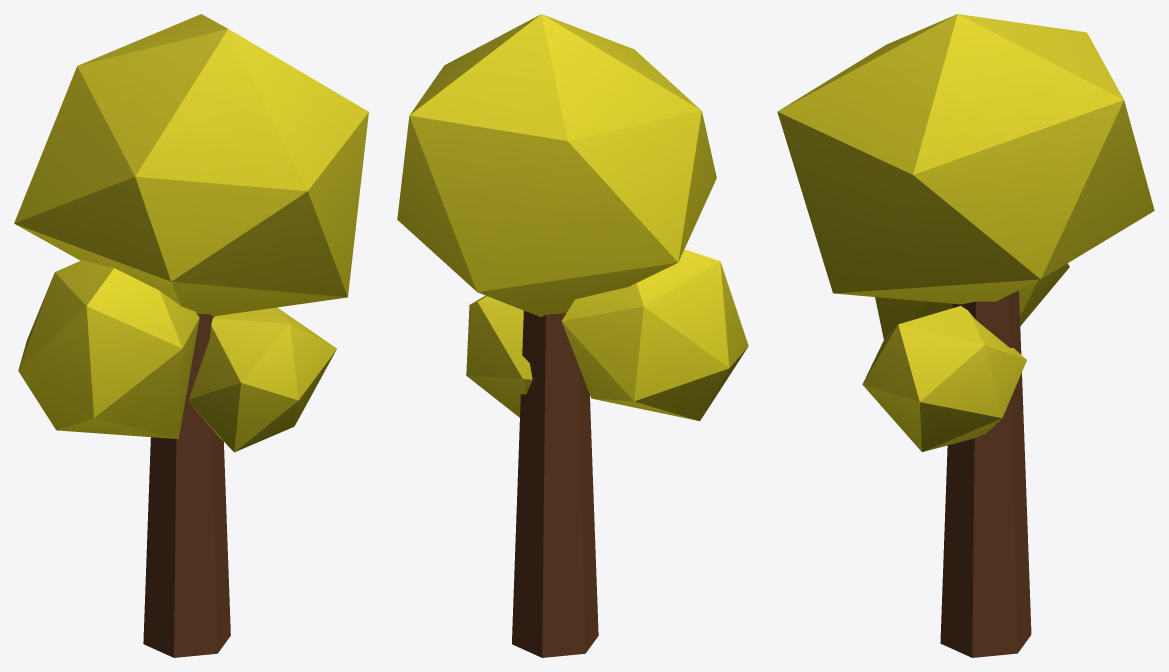
3 renders of one model, left to right at view 1: azimuth 30°, elevation 25°; view 2: azimuth 150°, elevation 25°; view 3: azimuth 270°, elevation 25°, orthographic. The views are drawn at different scales.
Parts seen in each view (by area): view 1: DS_02; view 2: DS_02; view 3: DS_02.
Part boxes in pixels (x1,y1,x2,y2): DS_02: [14, 14, 368, 657]; DS_02: [397, 14, 748, 657]; DS_02: [777, 14, 1154, 657].
Size of the model in its own units: 1.15 by 2.11 by 1.13.
